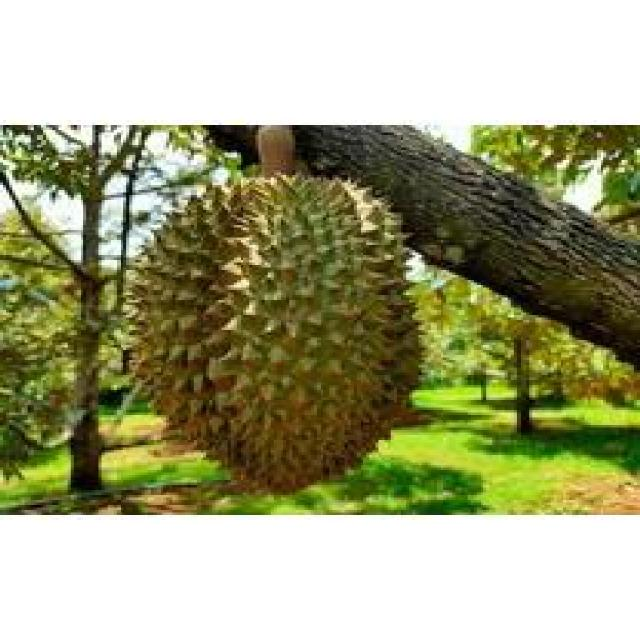fruit: (95, 140, 471, 510)
